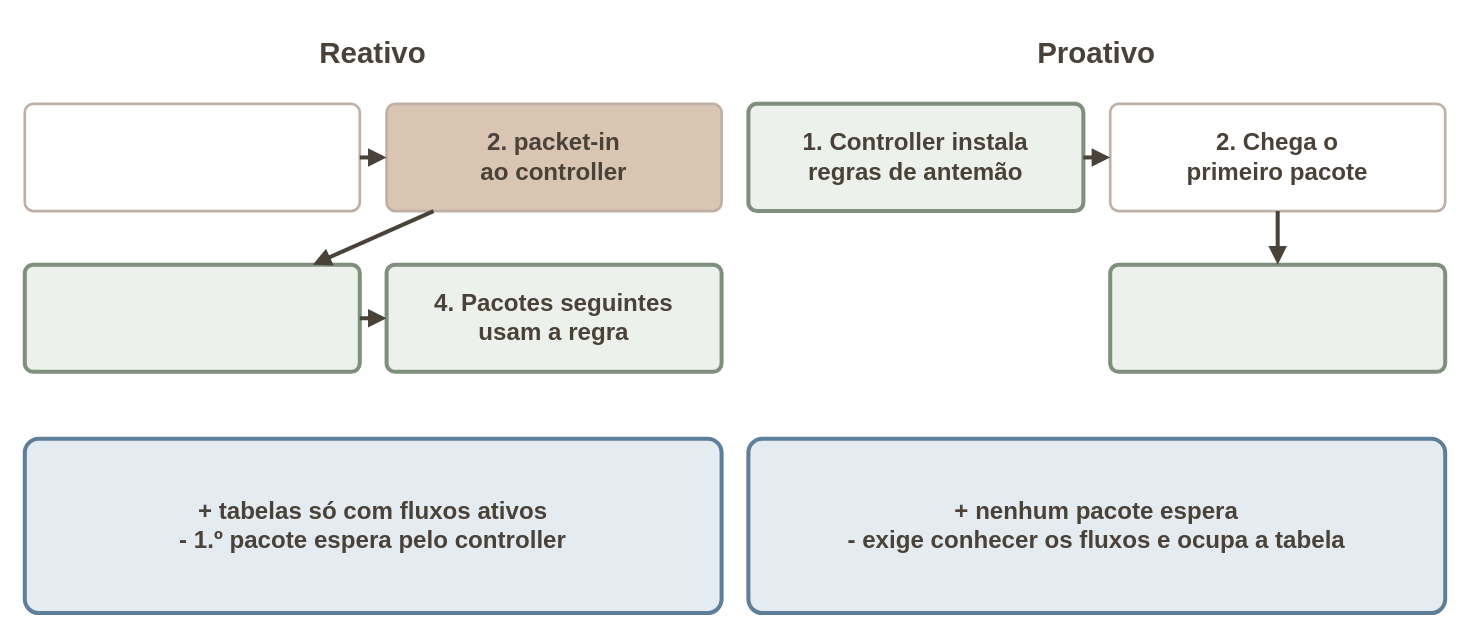
The diagram is 1470 pixels wide and 638 high, and some of its shapes have lost their labels. The shapes that lost their labels are listed below. From the top down, each one's centre as x and y in pixels, then its label:
At pixel 191 157: "1. Chega pacote sem regra".
At pixel 191 317: "3. Controller instala a regra".
At pixel 1277 317: "3. Encaminhado de imediato".
